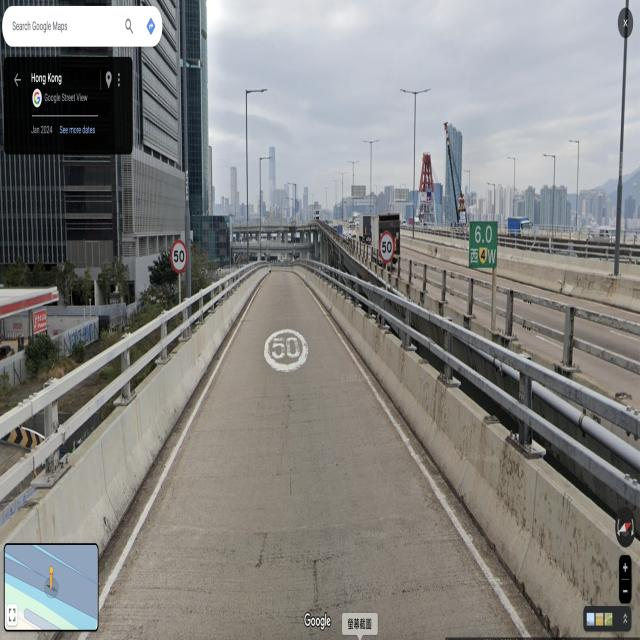Order-Sign: (173, 239, 187, 274), (380, 231, 394, 266)
